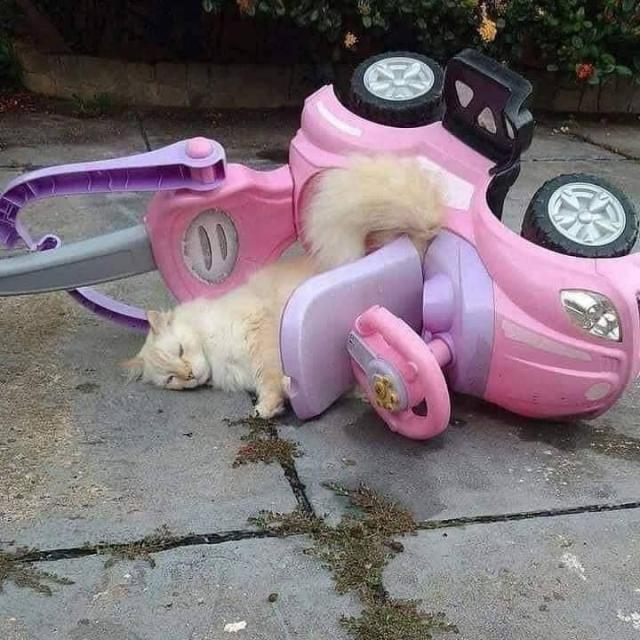cat: (134, 128, 436, 434)
